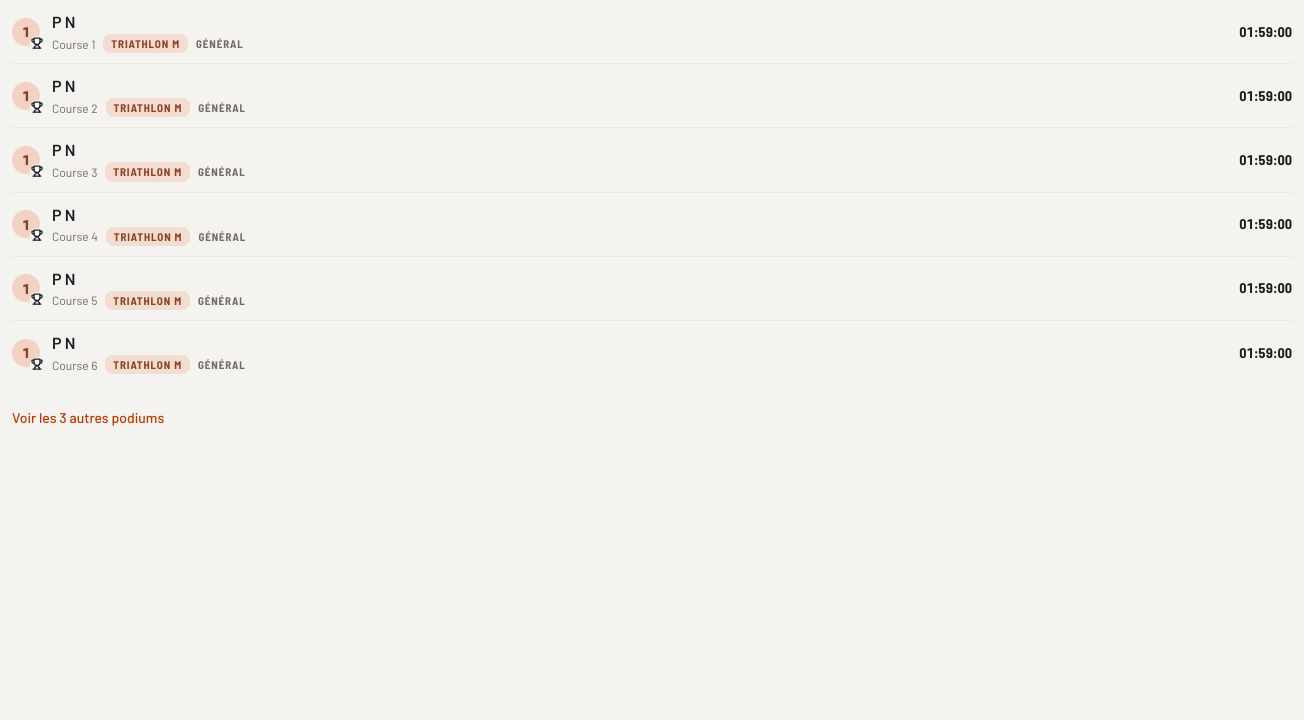
PodiumsList — aperçu servi seul, liste chargée au dépliage (#1354) › ne charge qu'une fois et reste déplié malgré un double clic
Click the button "Voir les 3 autres podiums". click: (88, 418)
box: [12,396,164,440]
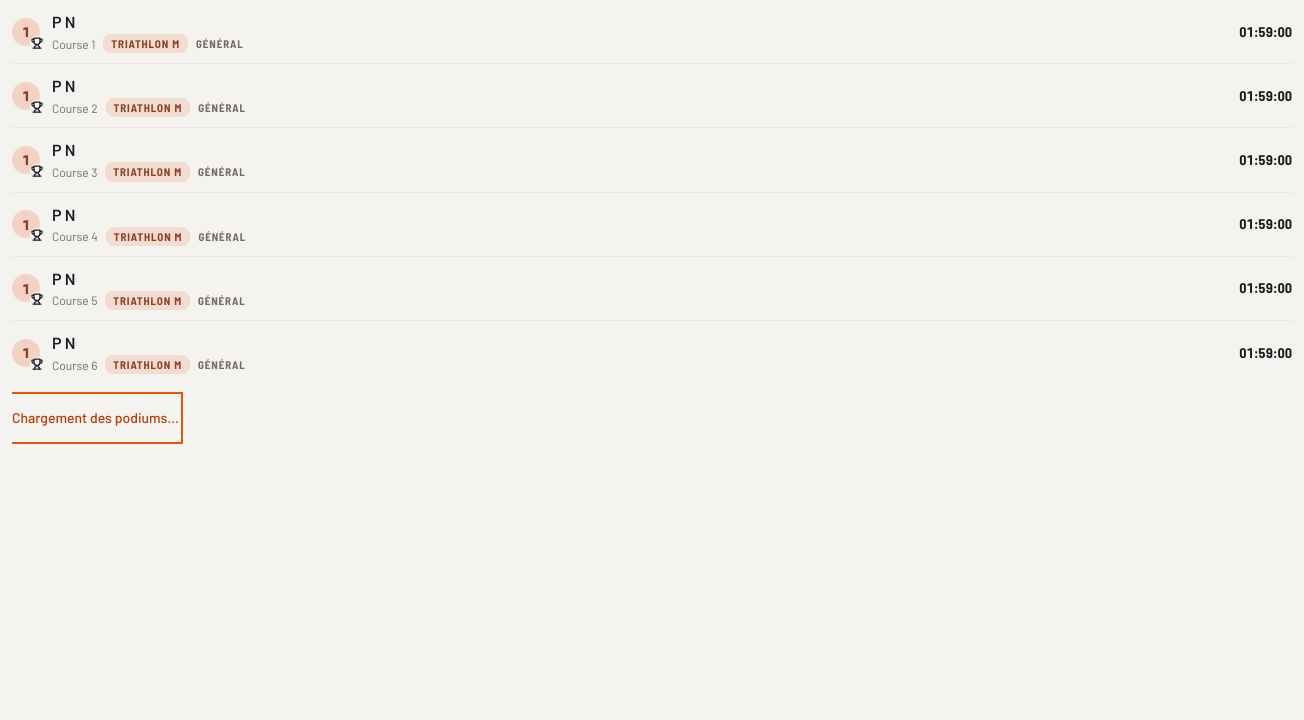
Click the button named "Voir les 3 autres podiums". click: (95, 418)
box: [12,396,179,440]
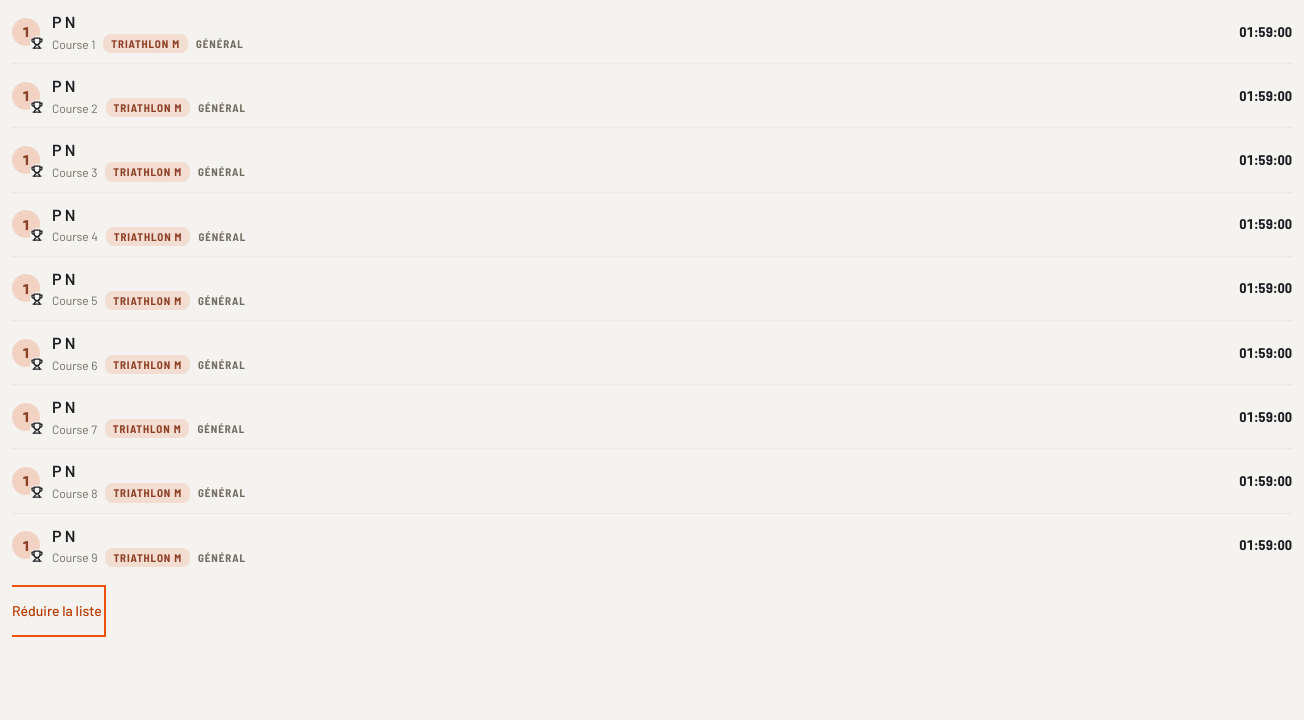
Now the number of list items is 9
